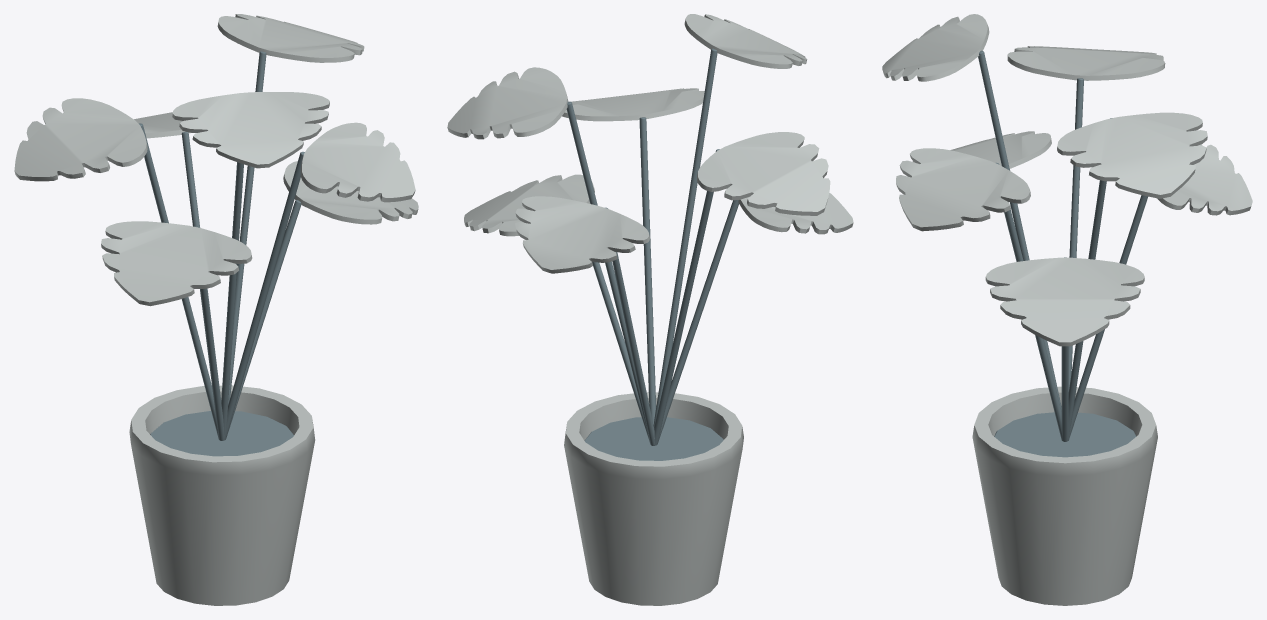
File: plant-large.glb
3 renders of one model, left to right at view 1: azimuth 30°, elevation 25°; view 2: azimuth 150°, elevation 25°; view 3: azimuth 270°, elevation 25°, orthographic. The views are drawn at different scales.
Parts seen in each view (by area): view 1: terracotta_pot, monstera_leaf_1, monstera_leaf_6, monstera_leaf_4, monstera_leaf_3, terracotta_pot_soil, monstera_leaf_5, monstera_leaf_0, leaf_stem_3, leaf_stem_6, leaf_stem_4, leaf_stem_5 (+4 smaller); view 2: terracotta_pot, monstera_leaf_4, monstera_leaf_2, monstera_leaf_5, terracotta_pot_soil, monstera_leaf_6, monstera_leaf_0, monstera_leaf_3, leaf_stem_6, monstera_leaf_1, leaf_stem_3, leaf_stem_4 (+4 smaller); view 3: terracotta_pot, monstera_leaf_0, monstera_leaf_5, monstera_leaf_3, monstera_leaf_6, terracotta_pot_soil, monstera_leaf_4, monstera_leaf_2, monstera_leaf_1, leaf_stem_6, leaf_stem_2, leaf_stem_4 (+3 smaller).
Part boxes in pixels (left/top/right/bottom): terracotta_pot: left=129, top=385, right=315, bottom=605; monstera_leaf_1: left=101, top=221, right=252, bottom=306; monstera_leaf_6: left=172, top=92, right=329, bottom=168; monstera_leaf_4: left=14, top=98, right=147, bottom=181; monstera_leaf_3: left=300, top=122, right=415, bottom=202; terracotta_pot_soil: left=150, top=411, right=293, bottom=456; monstera_leaf_5: left=217, top=14, right=364, bottom=62; monstera_leaf_0: left=283, top=161, right=418, bottom=224; leaf_stem_3: left=224, top=151, right=304, bottom=440; leaf_stem_6: left=221, top=162, right=243, bottom=439; leaf_stem_4: left=139, top=123, right=219, bottom=439; leaf_stem_5: left=228, top=51, right=266, bottom=404; terracotta_pot: left=564, top=392, right=743, bottom=605; monstera_leaf_4: left=697, top=132, right=830, bottom=215; monstera_leaf_2: left=515, top=196, right=649, bottom=273; monstera_leaf_5: left=447, top=67, right=568, bottom=139; terracotta_pot_soil: left=584, top=417, right=723, bottom=460; monstera_leaf_6: left=684, top=14, right=807, bottom=68; monstera_leaf_0: left=464, top=174, right=594, bottom=236; monstera_leaf_3: left=562, top=88, right=704, bottom=121; leaf_stem_6: left=653, top=48, right=717, bottom=427; monstera_leaf_1: left=738, top=193, right=853, bottom=234; leaf_stem_3: left=639, top=117, right=656, bottom=424; leaf_stem_4: left=654, top=149, right=719, bottom=445; terracotta_pot: left=972, top=386, right=1157, bottom=605; monstera_leaf_0: left=985, top=257, right=1144, bottom=346; monstera_leaf_5: left=1057, top=112, right=1207, bottom=198; monstera_leaf_3: left=896, top=148, right=1030, bottom=231; monstera_leaf_6: left=882, top=14, right=989, bottom=81; terracotta_pot_soil: left=994, top=412, right=1136, bottom=457; monstera_leaf_4: left=1007, top=46, right=1165, bottom=80; monstera_leaf_2: left=1157, top=144, right=1252, bottom=215; monstera_leaf_1: left=912, top=131, right=1051, bottom=168; leaf_stem_6: left=978, top=50, right=1061, bottom=410; leaf_stem_2: left=1068, top=195, right=1147, bottom=440; leaf_stem_4: left=1068, top=78, right=1083, bottom=391.
Bounding box in the file's own units: 1.04 × 1.36 × 0.8786.
